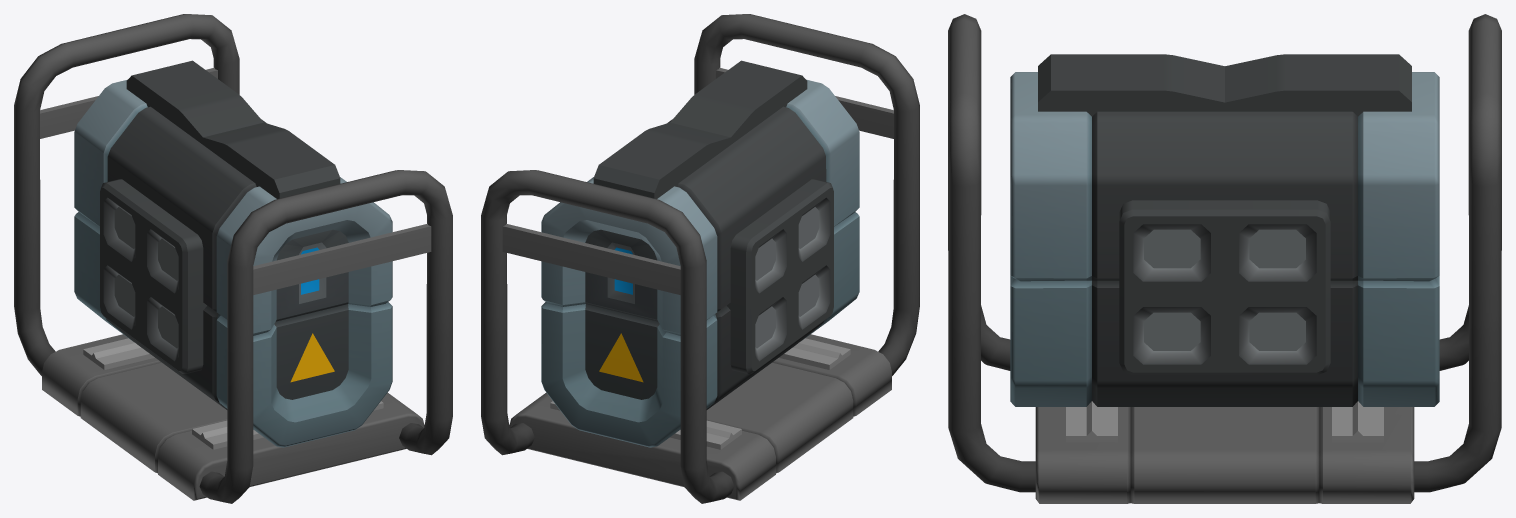
File: Generator_014.fbx
3 renders of one model, left to right at view 1: azimuth 30°, elevation 25°; view 2: azimuth 150°, elevation 25°; view 3: azimuth 270°, elevation 25°, orthographic. The views are drawn at different scales.
Visible parts, largest first — view 1: Generator_014; view 2: Generator_014; view 3: Generator_014.
Part boxes in pixels (x1,y1,x2,y2): Generator_014: [14, 14, 452, 503]; Generator_014: [481, 14, 919, 503]; Generator_014: [948, 14, 1501, 503].
Bounding box in the file's own units: 152 × 258 × 195.
